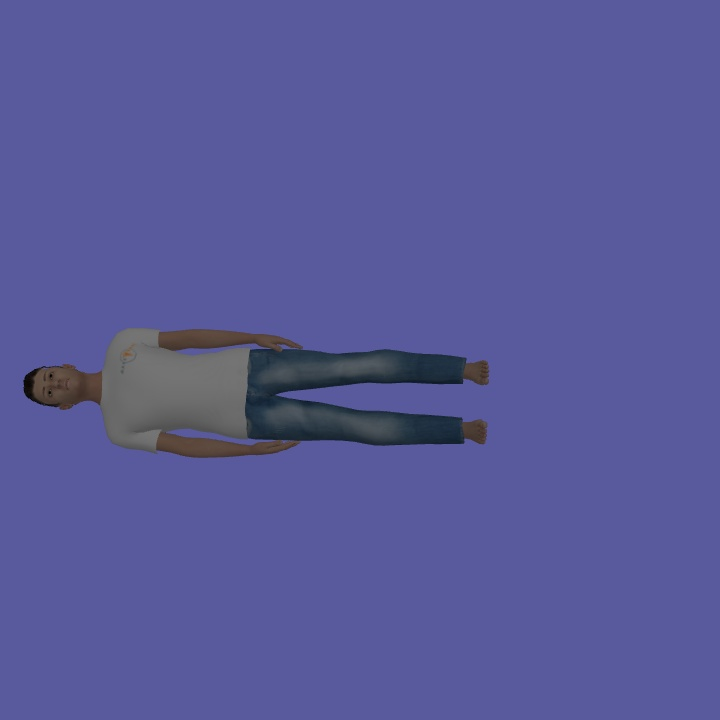victim: (22, 326, 492, 459)
